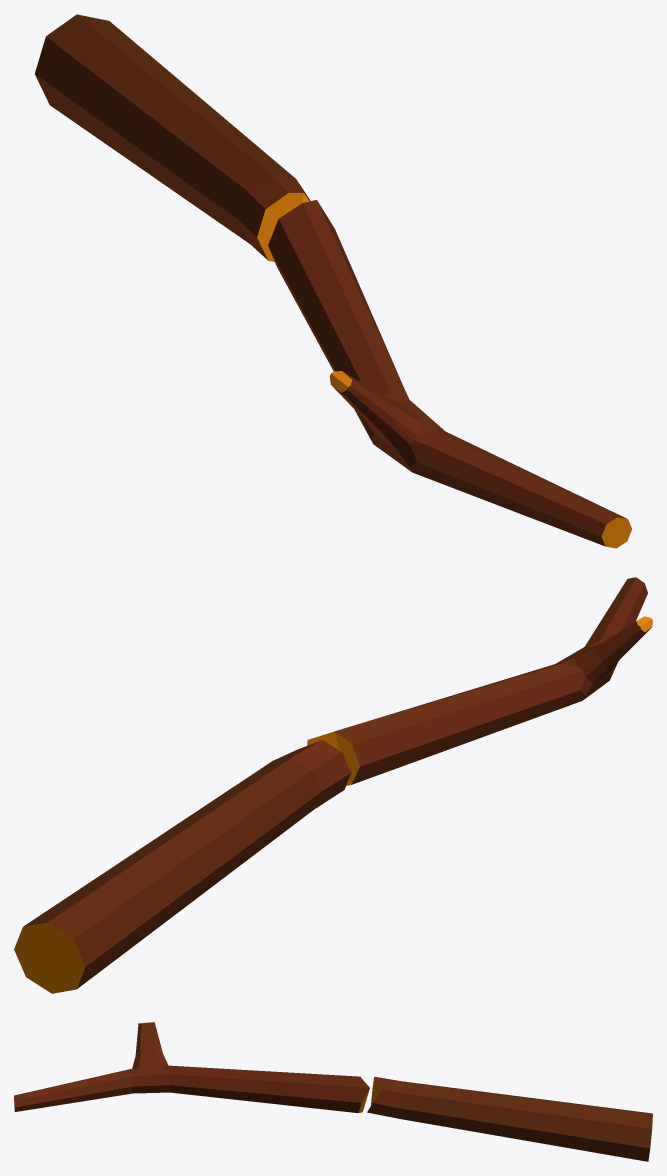
The model's file is Stick_54.fbx.
3 renders of one model, top to bottom at view 1: azimuth 30°, elevation 25°; view 2: azimuth 150°, elevation 25°; view 3: azimuth 270°, elevation 25°, orthographic. The views are drawn at different scales.
Parts seen in each view (by area): view 1: Circle.432, Circle.421; view 2: Circle.432, Circle.421; view 3: Circle.432, Circle.421.
Boxes of the visible parts, left/top/right/bottom form: Circle.432: left=35, top=14, right=310, bottom=261; Circle.421: left=268, top=200, right=631, bottom=548; Circle.432: left=14, top=740, right=350, bottom=993; Circle.421: left=307, top=577, right=652, bottom=785; Circle.432: left=367, top=1076, right=652, bottom=1161; Circle.421: left=14, top=1022, right=369, bottom=1112.
Size of the model in its own units: 11.09 by 5.86 by 42.03.
